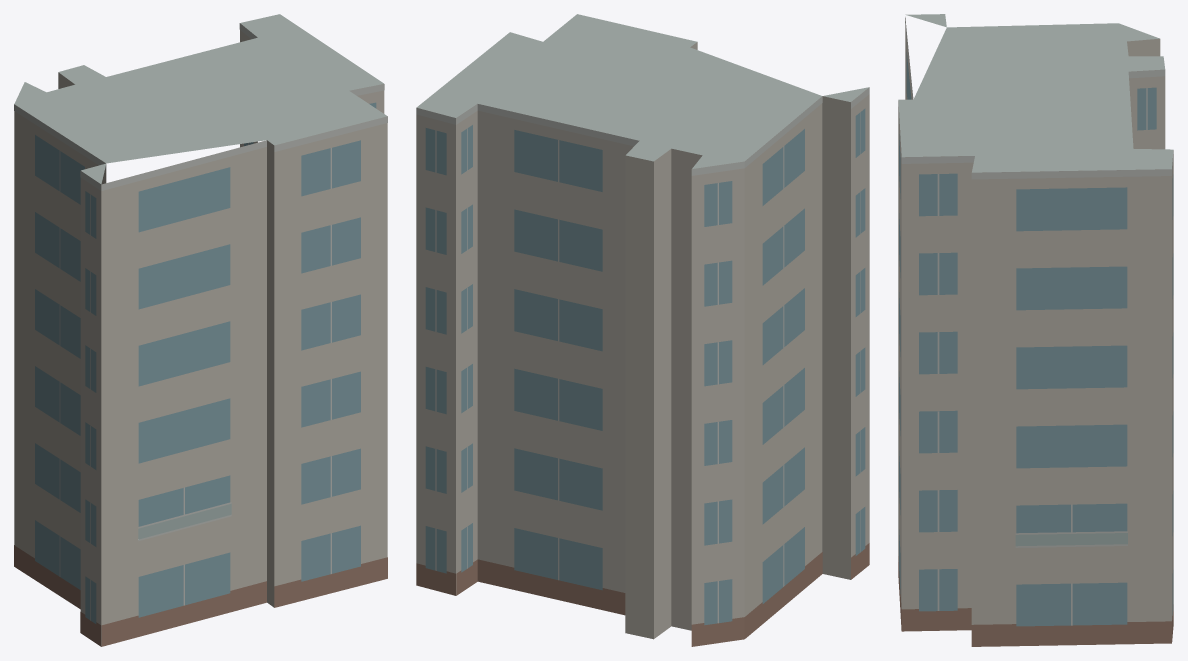
Rendered from survey-upis-33019547.glb.
3 renders of one model, left to right at view 1: azimuth 30°, elevation 25°; view 2: azimuth 150°, elevation 25°; view 3: azimuth 270°, elevation 25°, orthographic. The views are drawn at different scales.
Parts seen in each view (by area): view 1: survey-upis-33019547.tmp; view 2: survey-upis-33019547.tmp; view 3: survey-upis-33019547.tmp.
Boxes of the visible parts, <box> form: survey-upis-33019547.tmp: <box>14,14,387,646</box>; survey-upis-33019547.tmp: <box>416,14,869,646</box>; survey-upis-33019547.tmp: <box>898,14,1173,646</box>.
Bounding box in the file's own units: 12.2 × 17 × 8.95.
